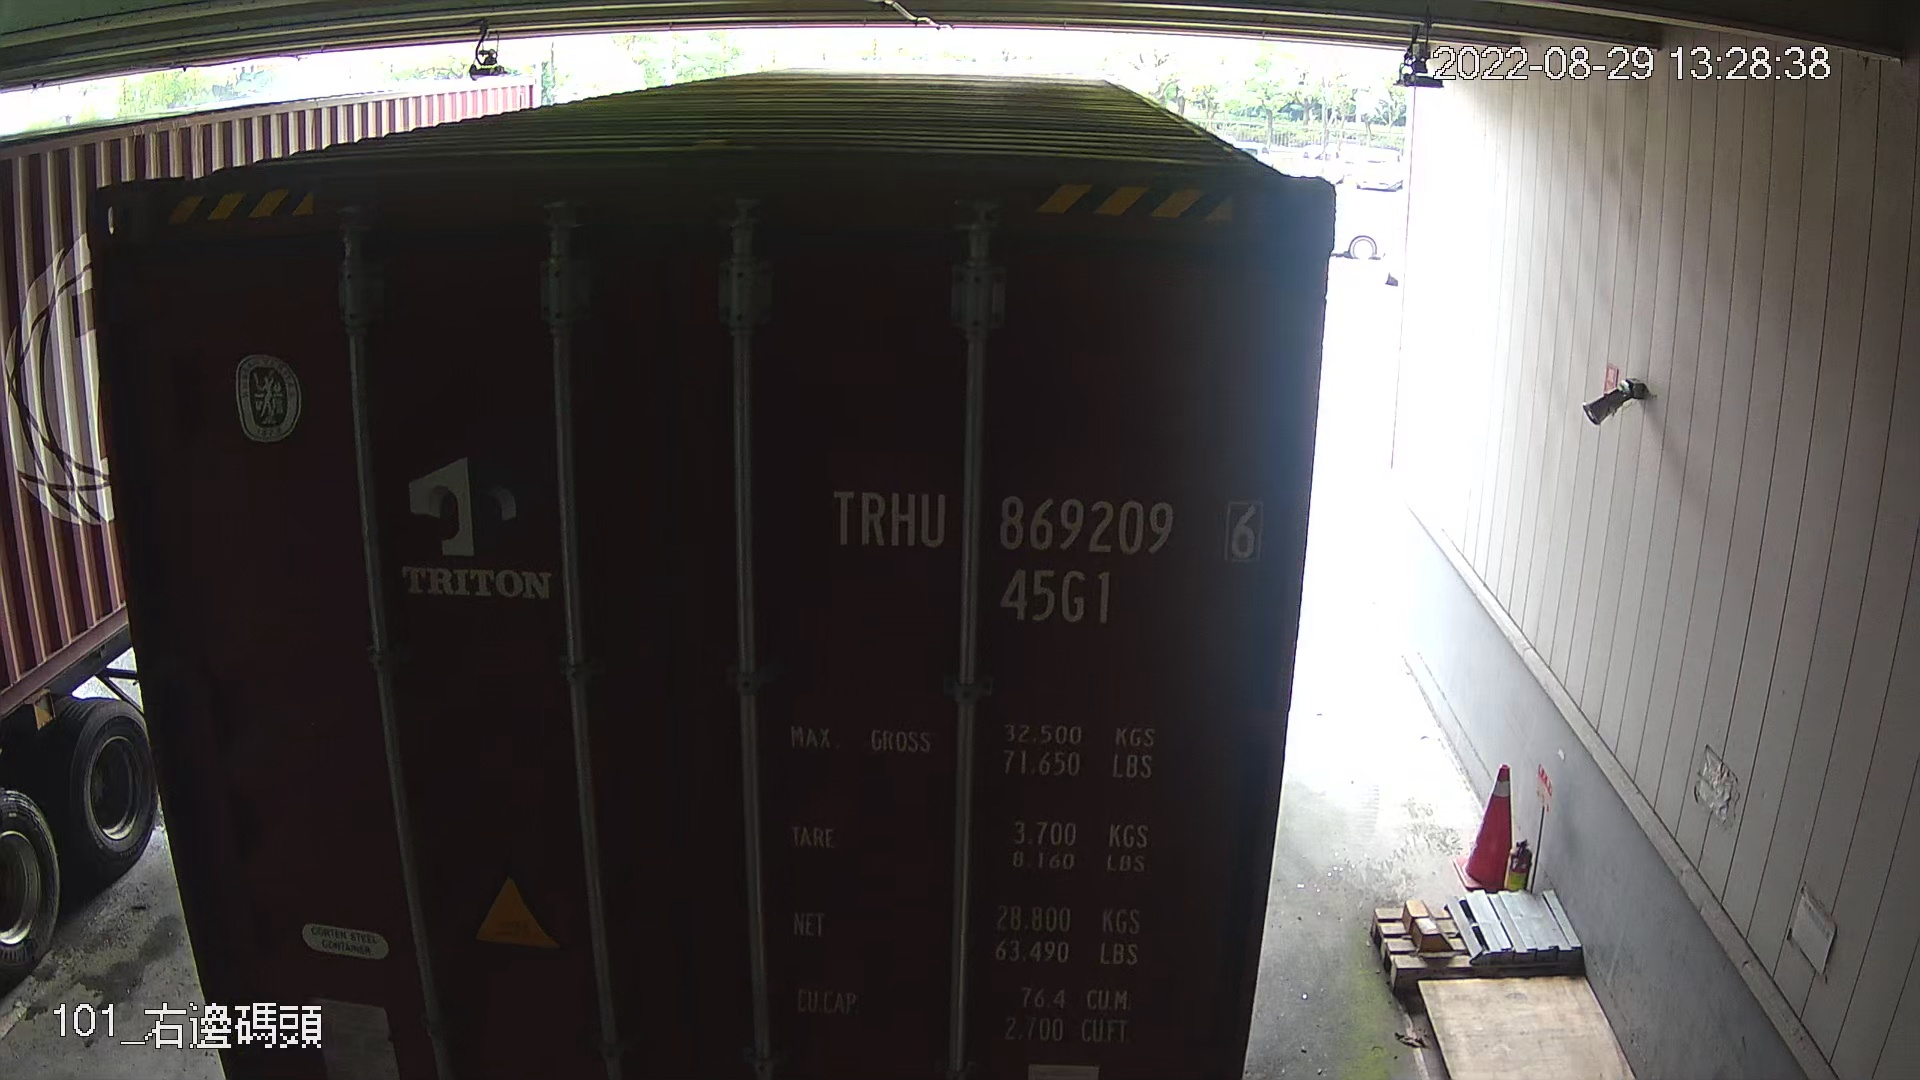container: (808, 467, 1276, 642)
